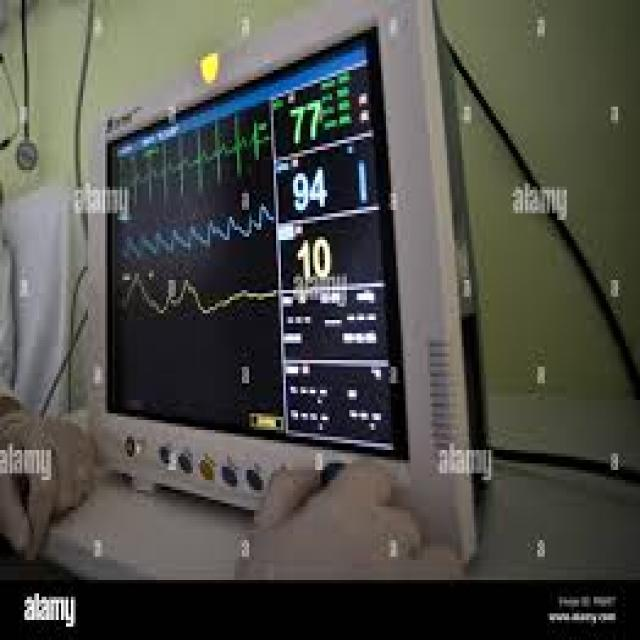cardiac_monitor: (103, 104, 449, 469)
